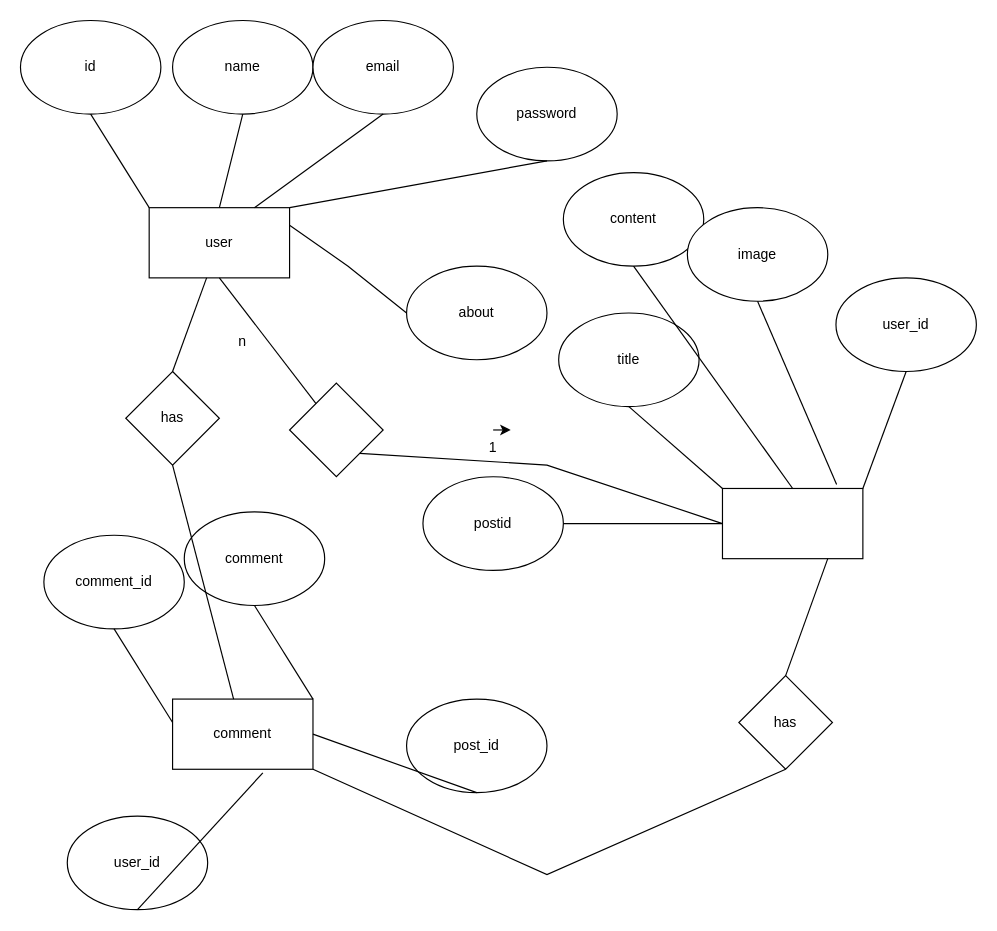
Image size: 997x931. Some labels were removed from this diagram. Each missing label, with the centre of its shape:
"can create" goes at pixel 335 429.
"post" goes at pixel 792 523.
